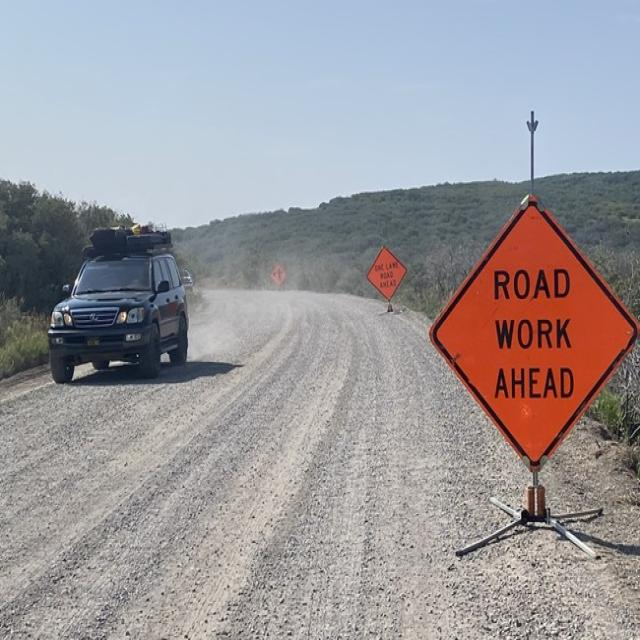roadwork: (418, 184, 640, 477)
